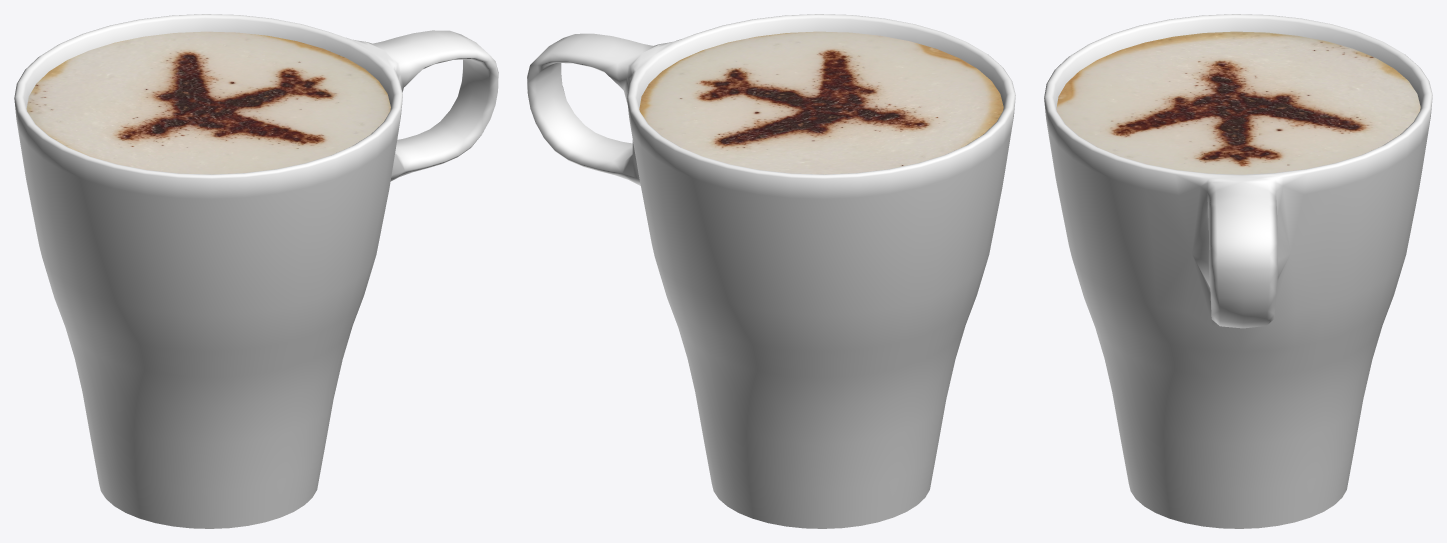
File: Coffee cup 2.fbx
3 views of the same model, side by side, from view 1: azimuth 30°, elevation 25°; view 2: azimuth 150°, elevation 25°; view 3: azimuth 270°, elevation 25° (orthographic).
Parts seen in each view (by area): view 1: Coffee cup 2, Coffee plane; view 2: Coffee cup 2, Coffee plane; view 3: Coffee cup 2, Coffee plane.
Boxes of the visible parts, x1,y1,x2,y2 form: Coffee cup 2: [14, 14, 498, 528]; Coffee plane: [26, 31, 390, 174]; Coffee cup 2: [527, 14, 1015, 528]; Coffee plane: [639, 31, 1003, 174]; Coffee cup 2: [1044, 14, 1432, 528]; Coffee plane: [1056, 31, 1420, 174].
Bounding box in the file's own units: 9.23 × 7.61 × 6.92.
1 material, 1 textured.
